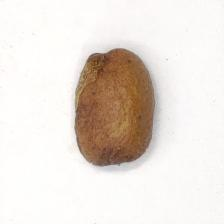NG: (74, 48, 109, 113)
